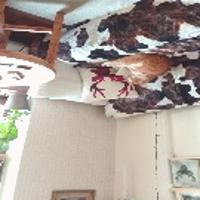asleep: (102, 54, 171, 84)
